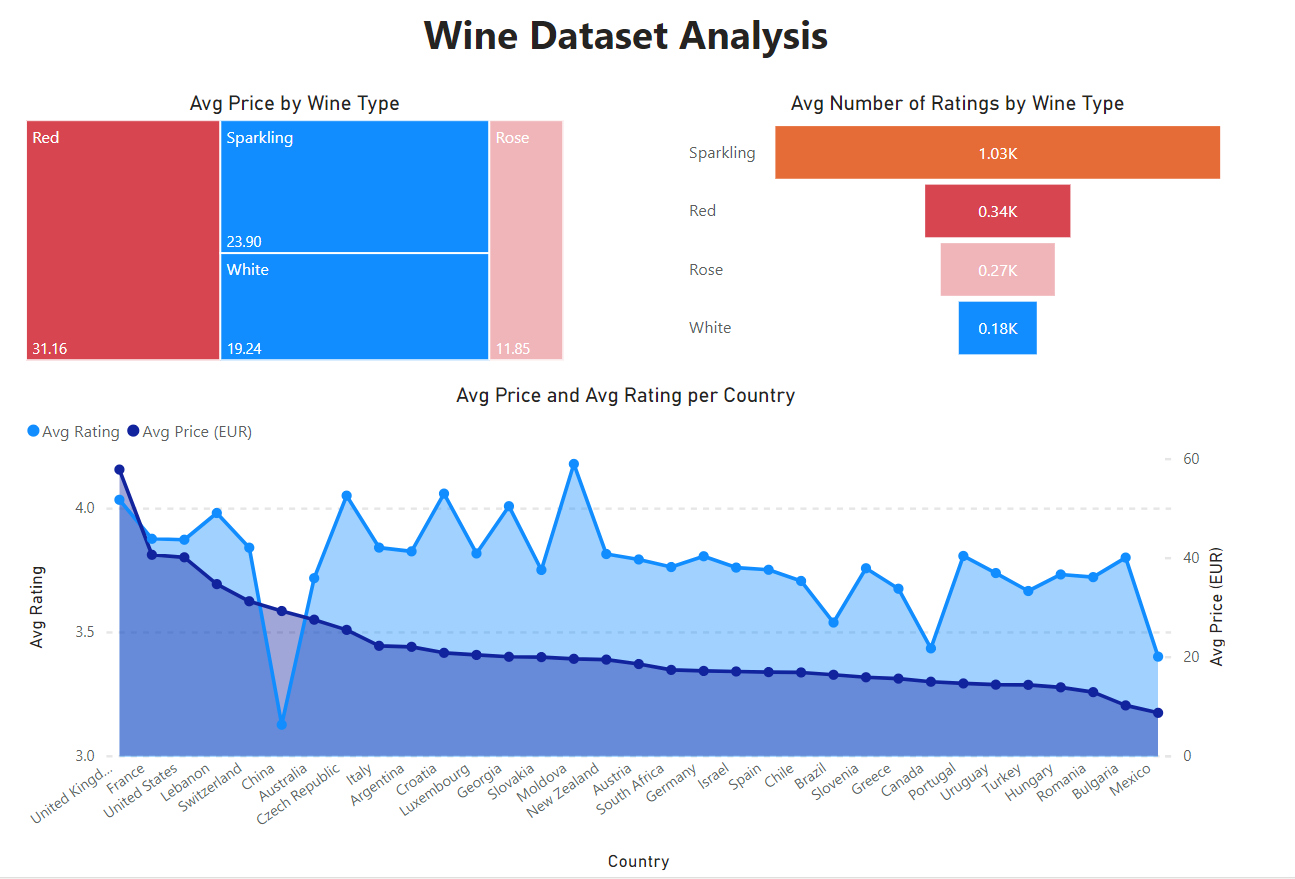

The dashboard page shown, as its layout file describes it:
{"tool":"powerbi","page":{"name":"Page 1","canvas":[1280,720],"ordinal":0},"visuals":[{"type":"treemap","title":"Avg Price by Wine Type","fields":{"Values":["Avg(wine-data.avg(Price))"],"Group":["wine-data.category"]},"box":[138.6,74.5,450.8,226.3],"z":0},{"type":"funnel","title":"Avg Number of Ratings by Wine Type","fields":{"Category":["wine-data.category"],"Y":["Avg(wine-data.avg(NumberOfRatings))"]},"box":[683.2,74.5,450.8,226.3],"z":1},{"type":"areaChart","title":"Avg Price and Avg Rating per Country","fields":{"Category":["wine-data.Country"],"Y":["Avg(wine-data.avg(Rating))"],"Y2":["Avg(wine-data.avg(Price))"]},"box":[138.6,314.8,994.5,405.2],"z":2},{"type":"textbox","box":[138.6,0,994.5,74.5],"z":3}]}

Visuals, with their boxes in screenshot pixels (x1, y1, x2, y2):
"Avg Price by Wine Type" treemap: detection(115, 118, 564, 344)
"Avg Number of Ratings by Wine Type" funnel: detection(658, 118, 1108, 344)
"Avg Price and Avg Rating per Country" areaChart: detection(115, 358, 1107, 762)
textbox: detection(115, 44, 1107, 118)
